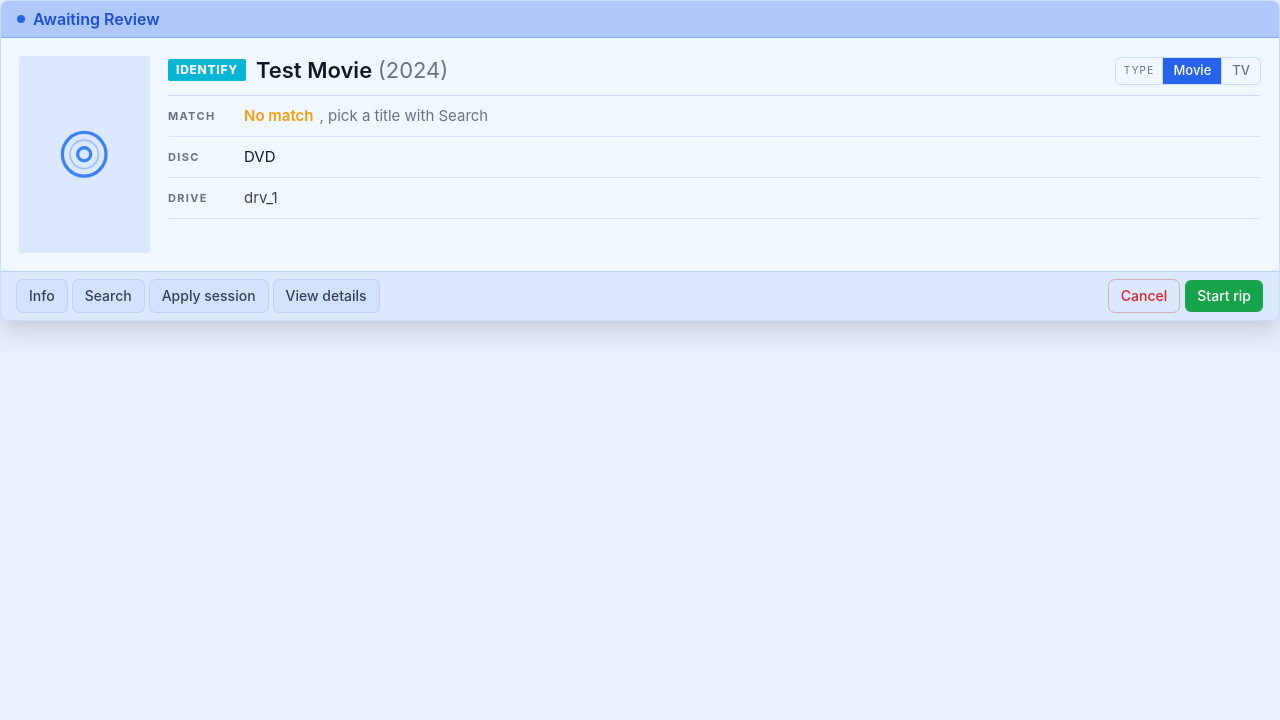
it: DiscReviewWidget › search button visibility › Info is the first action button and toggles the Info form
What coordinates should you click on to do the following:
click the button "Info"
I would click on:
 (42, 296)
Its box is [17, 280, 67, 312].
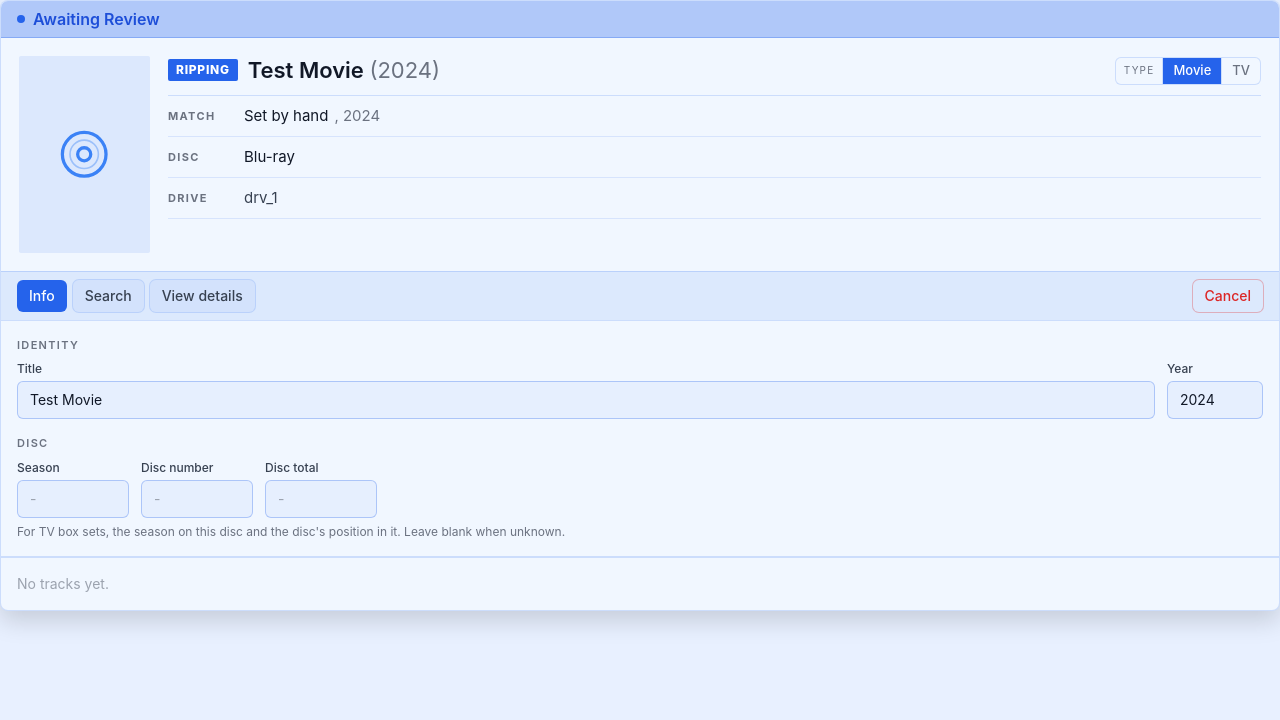
expect the field labelled "Title" is shown: met, box [17, 381, 1155, 419]
